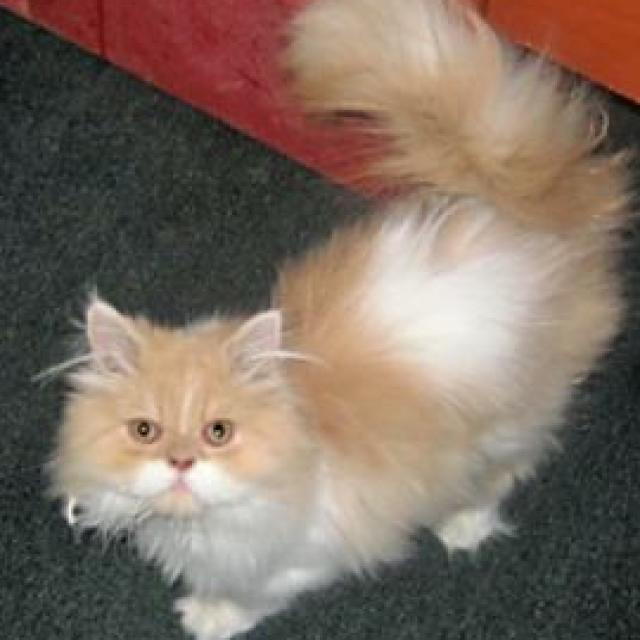Persian: (42, 0, 630, 640)
